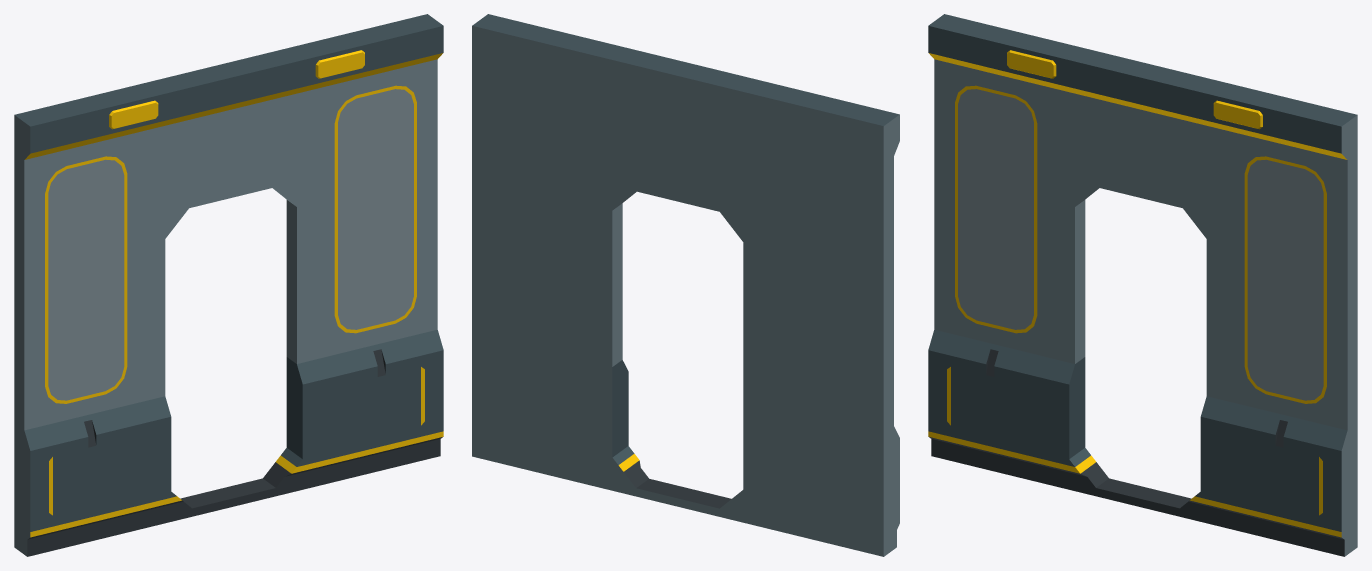
File: Wall_type_C_053.fbx
3 views of the same model, side by side, from view 1: azimuth 30°, elevation 25°; view 2: azimuth 150°, elevation 25°; view 3: azimuth 330°, elevation 25° (orthographic).
Parts seen in each view (by area): view 1: Wall_type_C_053; view 2: Wall_type_C_053; view 3: Wall_type_C_053.
Part boxes in pixels (x1=…): Wall_type_C_053: x1=14, y1=14, x2=443, y2=556; Wall_type_C_053: x1=472, y1=14, x2=899, y2=556; Wall_type_C_053: x1=928, y1=14, x2=1357, y2=556.
Size of the model in its own units: 400 by 28.98 by 400.
